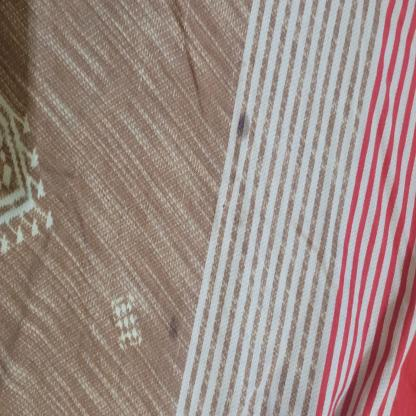spot: (232, 104, 251, 149), (162, 309, 179, 344)
